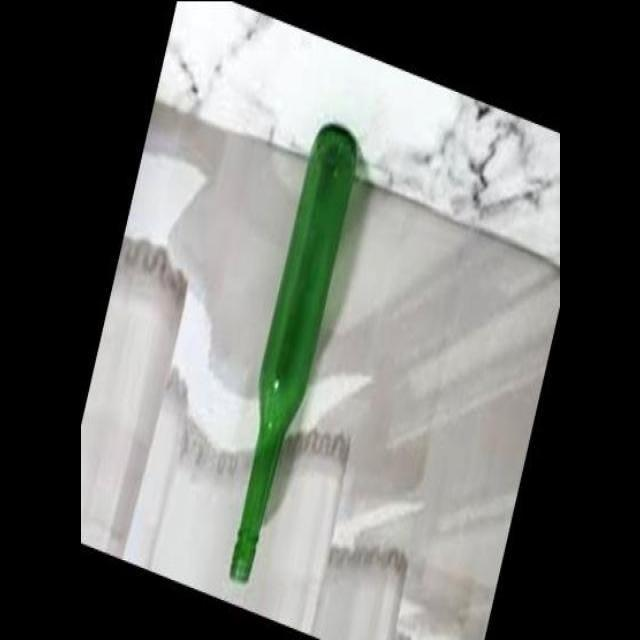Glass: (226, 116, 364, 592)
